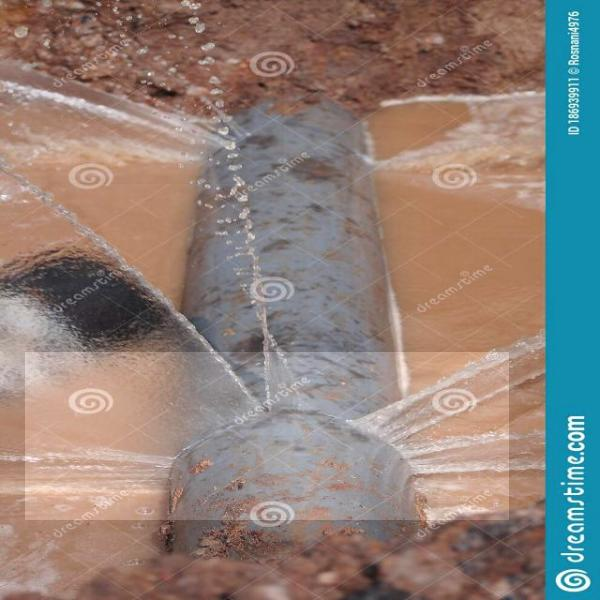leak: (25, 352, 509, 520), (80, 76, 284, 184)
